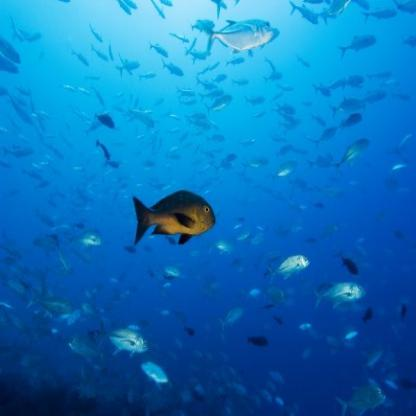Carangidae -Jacks-: (200, 15, 287, 63)
Lutjanidae -Snappers-: (129, 185, 220, 249)
